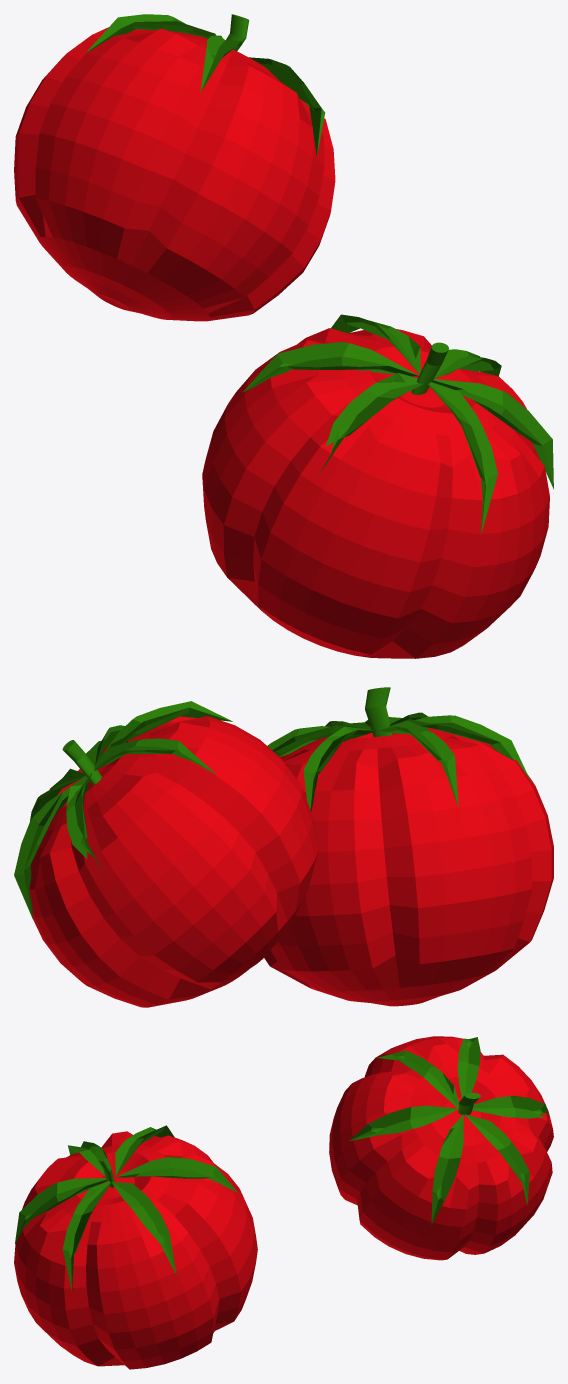
The model's file is MAKE TOMATO.glb.
The picture shows the model from 3 angles, top to bottom: view 1: azimuth 30°, elevation 25°; view 2: azimuth 150°, elevation 25°; view 3: azimuth 270°, elevation 25°; orthographic projection. The views are drawn at different scales.
Visible parts, largest first — view 1: Sphere, Sphere.001, leaves, leaves.001, Circle; view 2: Sphere.001, Sphere, leaves.001, leaves, Circle, Circle.001; view 3: Sphere, Sphere.001, leaves.001, leaves.
Boxes of the visible parts, x1,y1,x2,y2 form: Sphere: [202, 328, 549, 658]; Sphere.001: [14, 27, 335, 321]; leaves: [242, 314, 553, 533]; leaves.001: [86, 14, 325, 156]; Circle: [411, 342, 448, 394]; Sphere.001: [29, 716, 319, 1007]; Sphere: [264, 728, 553, 1006]; leaves.001: [14, 701, 232, 918]; leaves: [267, 712, 530, 811]; Circle: [365, 687, 392, 736]; Circle.001: [62, 740, 101, 785]; Sphere: [14, 1131, 257, 1369]; Sphere.001: [329, 1036, 553, 1260]; leaves.001: [349, 1037, 549, 1224]; leaves: [15, 1125, 237, 1290].
Size of the model in its own units: 2.16 by 2.86 by 4.5.
